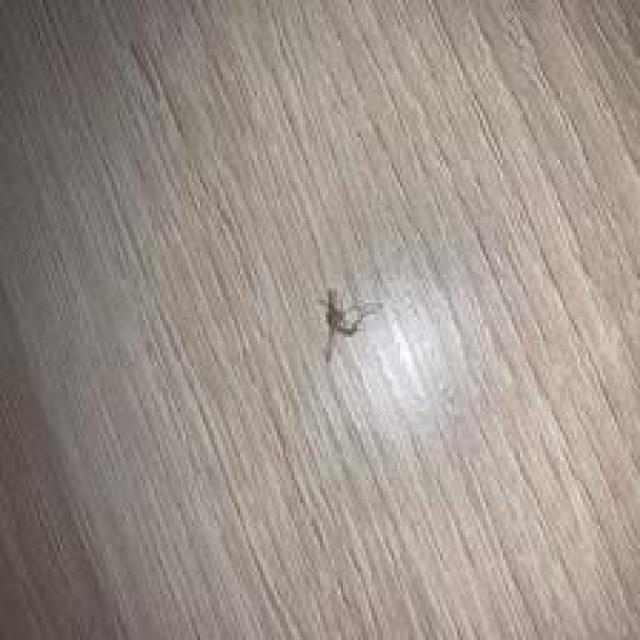Culex: (317, 287, 383, 364)
